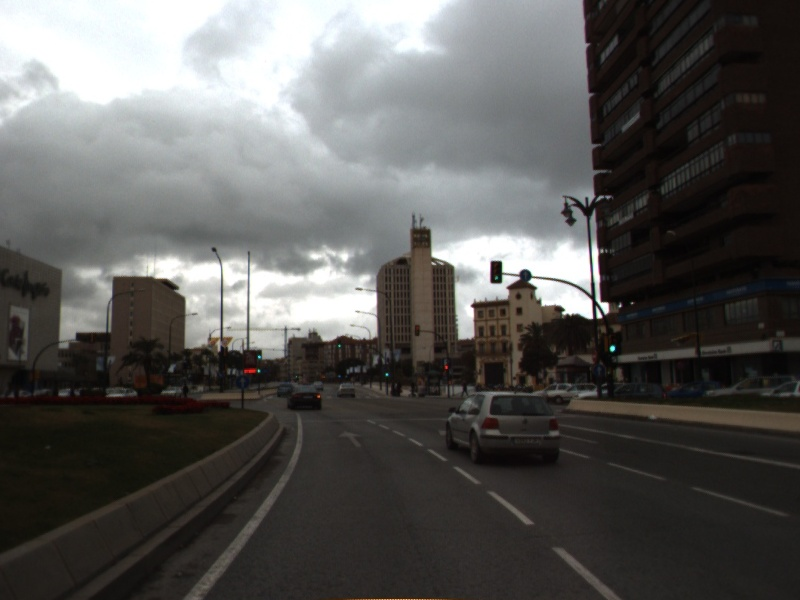STRAIGHT: (336, 428, 365, 449)
